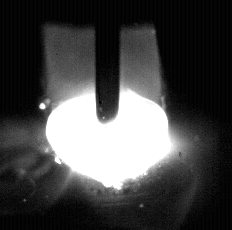arame: (95, 0, 121, 125)
poca: (45, 0, 171, 230)
